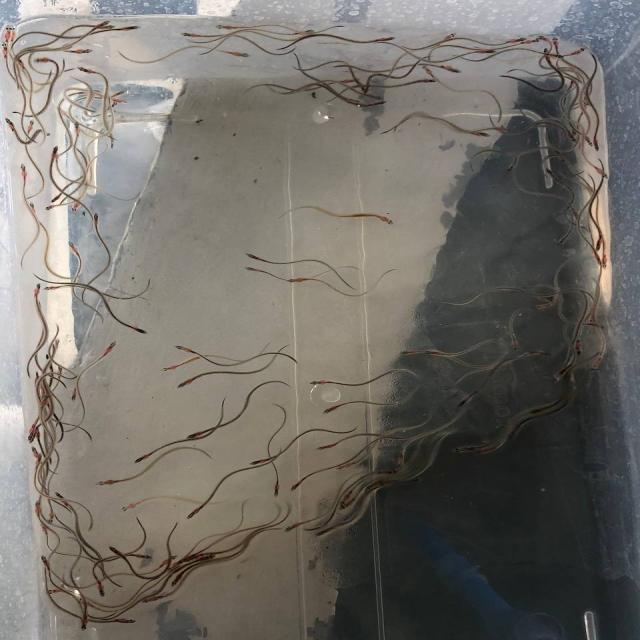glass_eel: (82, 19, 119, 33), (0, 24, 19, 50), (336, 455, 365, 471), (82, 16, 115, 30), (70, 190, 89, 213), (371, 32, 401, 46), (184, 427, 216, 440), (182, 505, 205, 523), (106, 21, 147, 31), (62, 45, 95, 57), (527, 402, 555, 416), (362, 480, 390, 494), (123, 498, 151, 512), (430, 31, 460, 44), (282, 519, 308, 534), (228, 48, 255, 62), (171, 345, 202, 357), (250, 454, 278, 467), (26, 445, 44, 465), (16, 162, 34, 182), (181, 31, 213, 42), (26, 55, 55, 67), (175, 376, 198, 391), (62, 238, 80, 257), (40, 554, 57, 574), (54, 490, 74, 507), (313, 524, 337, 538), (158, 552, 179, 568), (210, 20, 243, 30), (475, 444, 502, 456), (319, 404, 345, 416), (336, 499, 358, 513), (314, 441, 342, 452), (132, 450, 154, 464), (94, 475, 118, 487), (140, 595, 164, 607), (452, 445, 478, 456), (556, 362, 575, 377), (587, 358, 606, 373), (453, 396, 473, 410), (290, 477, 310, 491), (90, 212, 104, 232), (528, 347, 551, 359), (545, 34, 561, 51), (436, 63, 463, 73), (305, 378, 332, 388), (30, 500, 45, 518), (101, 340, 119, 355), (293, 28, 317, 39), (472, 47, 496, 58), (568, 46, 590, 58), (377, 214, 399, 226), (106, 546, 128, 558), (114, 616, 138, 627), (154, 363, 183, 372), (378, 467, 404, 477), (22, 114, 35, 134), (13, 57, 28, 74), (542, 166, 559, 181), (44, 202, 67, 213), (76, 63, 94, 77), (95, 580, 109, 598), (130, 322, 148, 336), (53, 364, 67, 382), (287, 276, 312, 286), (27, 423, 40, 442), (367, 99, 389, 110), (400, 348, 422, 359), (338, 490, 358, 502), (592, 251, 605, 269), (2, 118, 17, 133), (490, 126, 518, 134), (242, 252, 270, 260), (48, 152, 64, 166), (31, 280, 44, 297), (0, 38, 11, 58), (411, 77, 435, 86), (506, 35, 530, 44), (472, 129, 493, 139), (506, 336, 521, 350), (396, 450, 406, 471), (25, 201, 39, 216), (579, 130, 592, 146), (506, 158, 519, 174), (550, 370, 566, 383), (78, 88, 104, 96), (54, 104, 70, 117), (347, 99, 367, 109), (102, 100, 122, 110), (586, 322, 608, 331), (425, 348, 447, 357), (78, 618, 92, 632), (48, 338, 63, 351), (564, 132, 580, 144), (594, 168, 610, 180), (594, 235, 606, 251), (271, 482, 283, 498), (46, 144, 58, 160), (590, 135, 600, 154), (197, 554, 216, 564), (239, 266, 262, 274), (557, 234, 570, 248), (51, 189, 64, 203), (344, 74, 362, 84), (603, 252, 612, 272), (171, 576, 186, 588), (45, 510, 57, 525), (72, 120, 82, 138), (108, 89, 126, 99), (575, 338, 584, 357), (69, 386, 79, 403), (128, 553, 152, 560), (36, 524, 50, 536), (42, 285, 63, 293), (542, 47, 553, 61), (538, 35, 552, 46), (530, 303, 552, 310), (362, 95, 386, 101), (42, 587, 58, 596), (362, 84, 372, 98), (522, 37, 542, 44), (422, 66, 437, 75), (548, 51, 563, 60), (558, 153, 567, 164), (568, 77, 576, 87)
